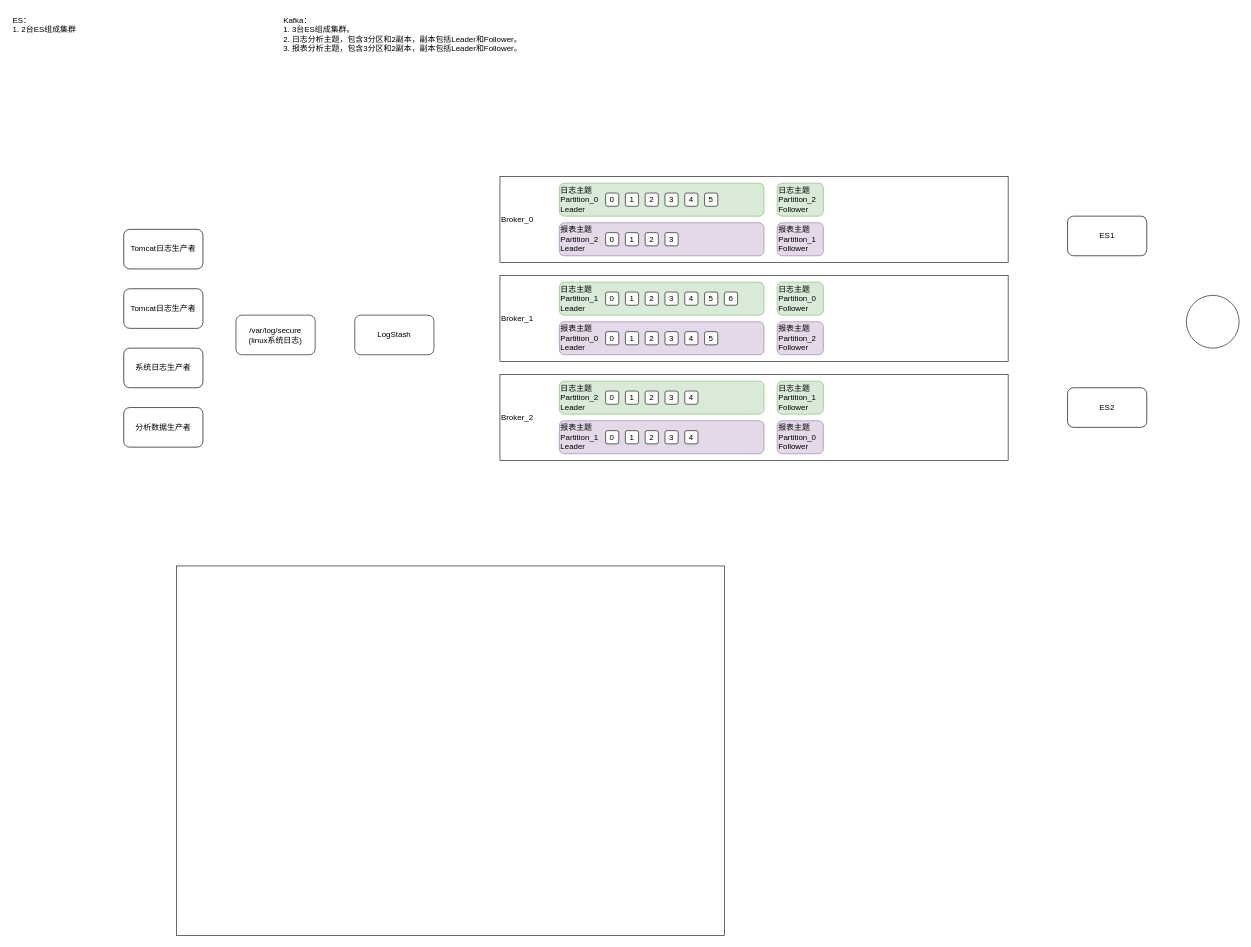
Some shapes in this 1251 by 947 pixel diagram are drawn without their labels. Here are the shapes that lost their labels. From the top down, the centre of each, then its label:
At (x=1212, y=321): "Kibana".
At (x=450, y=750): "Kafka Cluster".
